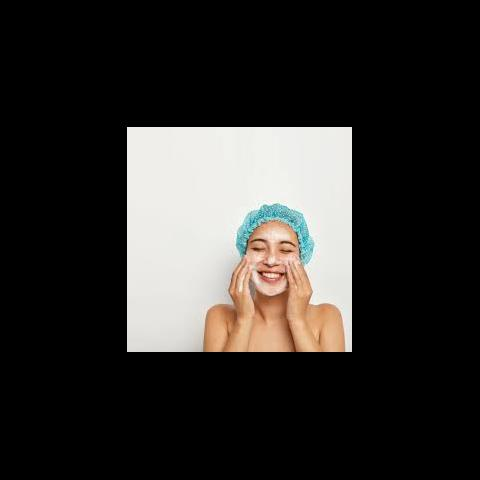closed: (248, 236, 298, 258)
